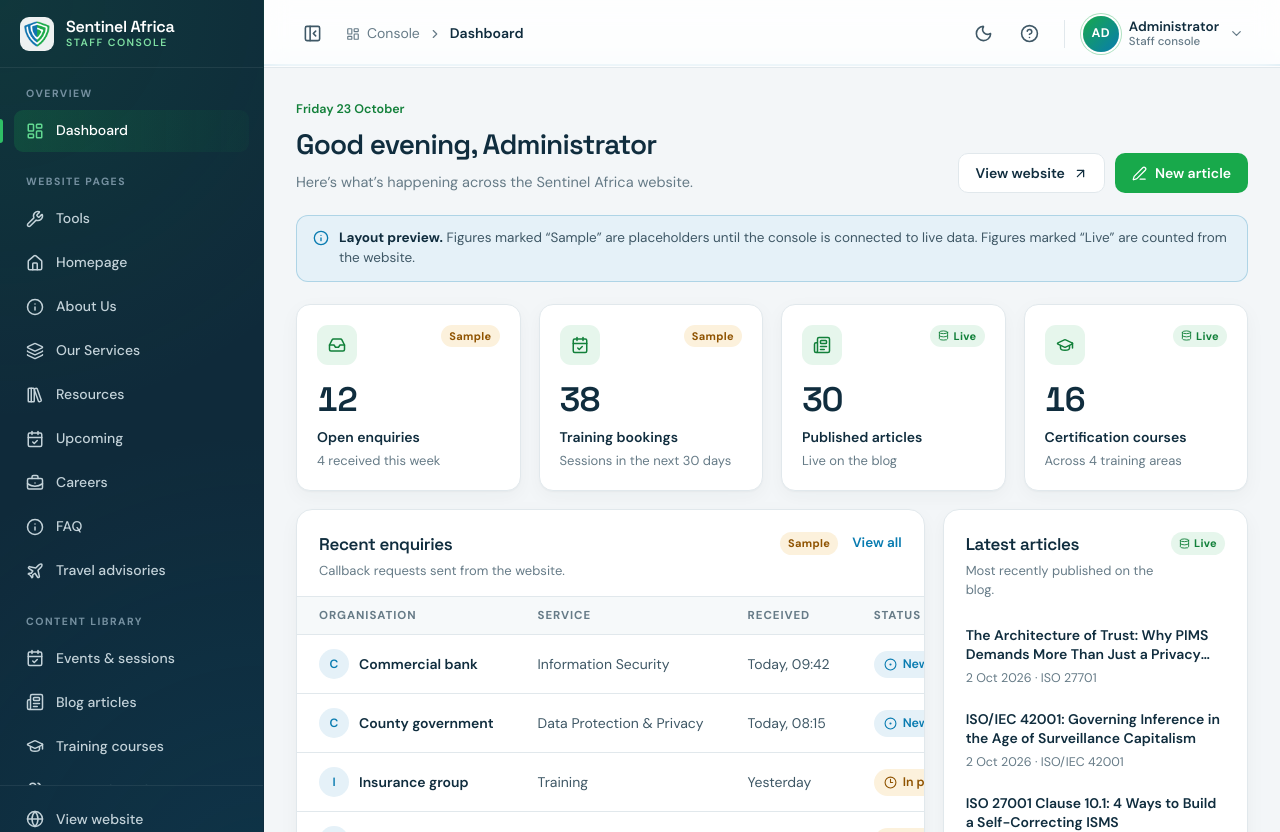
Test case: Staff area › collapses the sidebar to icons on wide screens and remembers it
Step 1. Click the button named "Collapse sidebar" → (312, 34), box top-left (292, 14), bottom-right (332, 54)
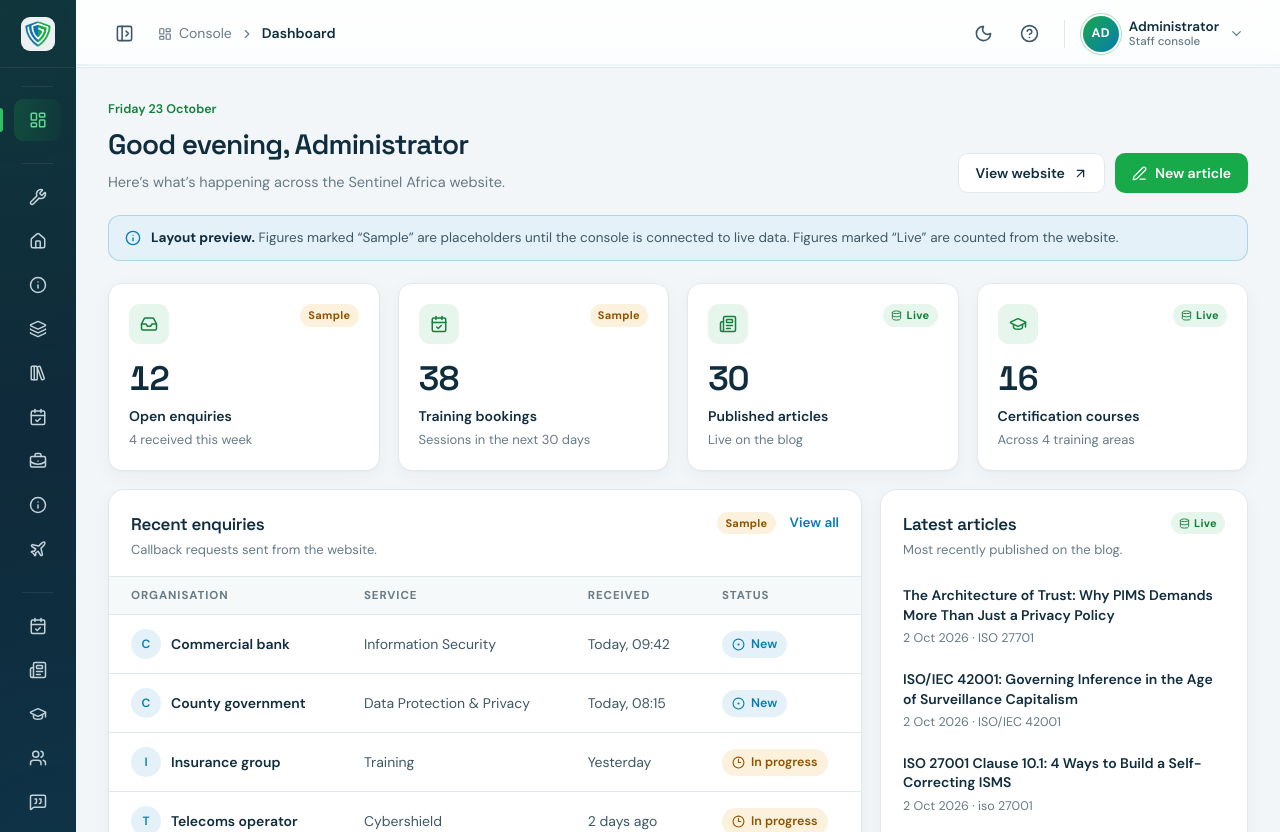
Expected: the button named "Expand sidebar" is collapsed, top-left (104, 14), bottom-right (144, 54)
